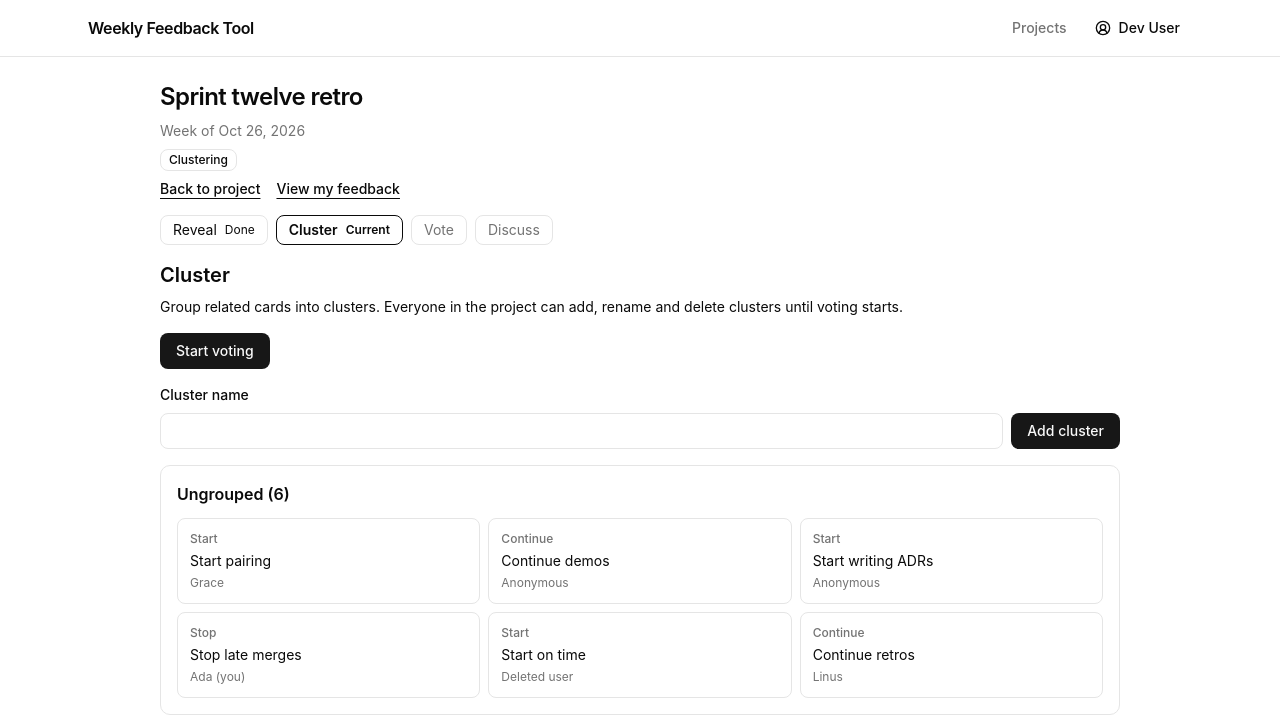
Test case: advancing the stage › moves cluster to vote with its toast
Step 1. Click the button "Start voting" → click(215, 351), box [160, 333, 270, 369]
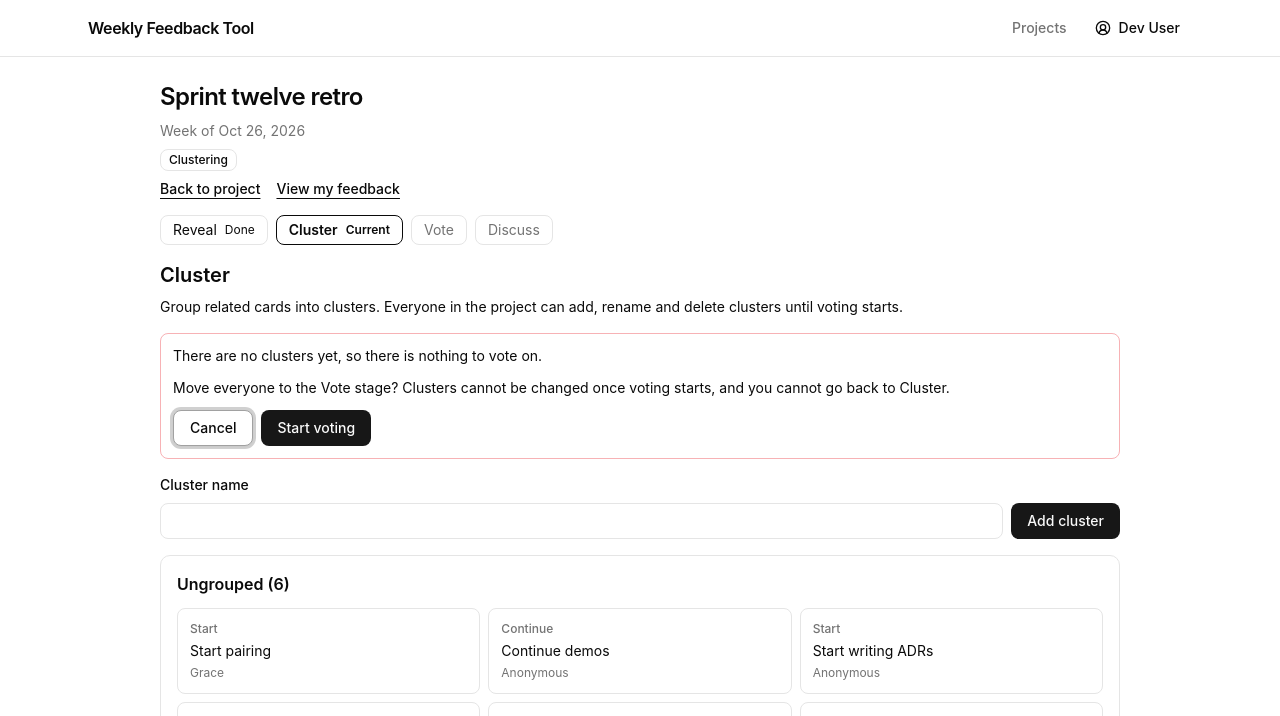
Step 2. Click the button "Start voting" → click(316, 428), box [262, 410, 371, 446]
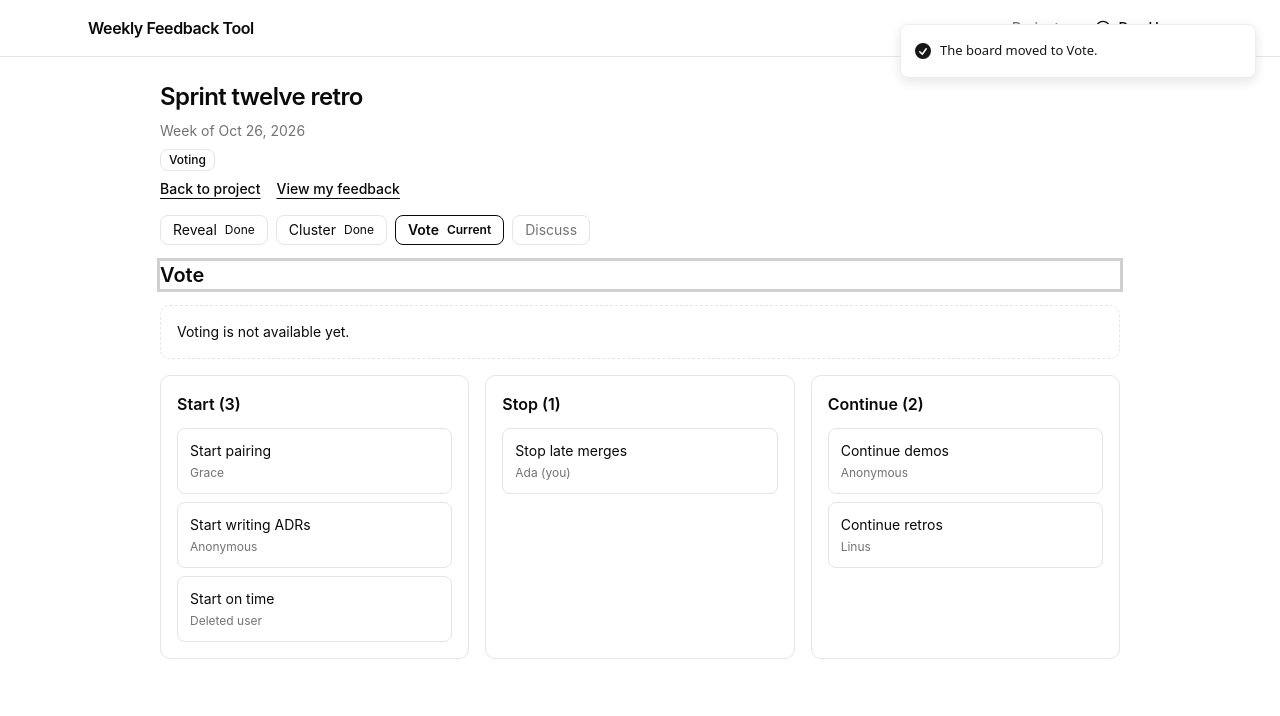
Result: the text "The board moved to Vote." is shown at [940, 41, 1098, 60]
